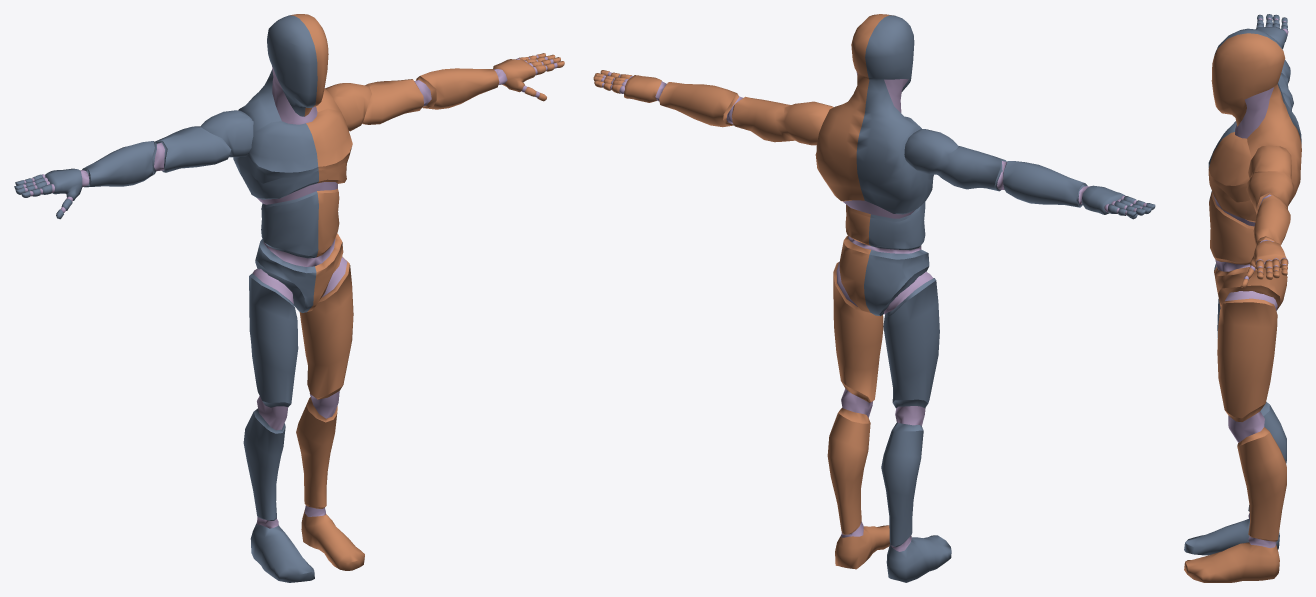
Rendered from human-small.glb.
The picture shows the model from 3 angles, left to right: view 1: azimuth 30°, elevation 25°; view 2: azimuth 150°, elevation 25°; view 3: azimuth 270°, elevation 25°; orthographic projection. The views are drawn at different scales.
Visible parts, largest first — view 1: Mannequin; view 2: Mannequin; view 3: Mannequin.
Part boxes in pixels (bbox=[...]): Mannequin: bbox=[14, 14, 564, 582]; Mannequin: bbox=[593, 14, 1155, 582]; Mannequin: bbox=[1184, 14, 1301, 582].
Size of the model in its own units: 0.8124 by 0.7644 by 0.1544.
